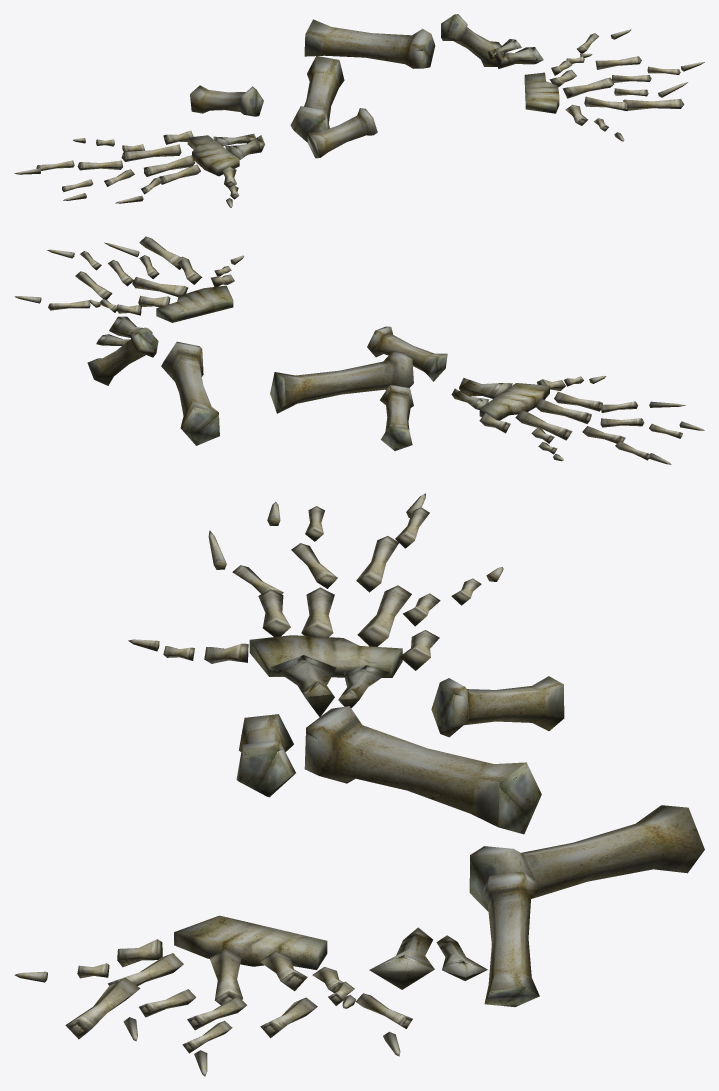
Rendered from bone_turtle_arm00.fbx.
The picture shows the model from 3 angles, top to bottom: view 1: azimuth 30°, elevation 25°; view 2: azimuth 150°, elevation 25°; view 3: azimuth 270°, elevation 25°; orthographic projection. The views are drawn at different scales.
Visible parts, largest first — view 1: Object03; view 2: Object03; view 3: Object03.
Part boxes in pixels (bbox=[...]): Object03: bbox=[14, 14, 704, 207]; Object03: bbox=[14, 236, 704, 464]; Object03: bbox=[14, 493, 704, 1076].
Size of the model in its own units: 9.41 by 0.8266 by 4.71.
